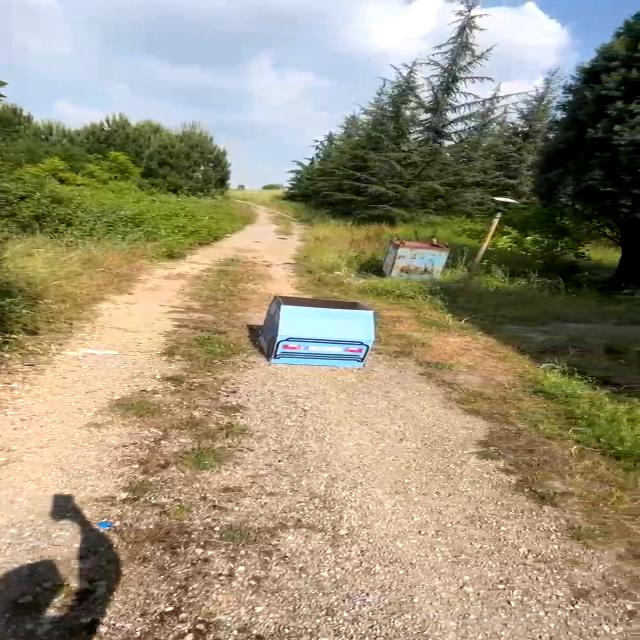blue_car: (242, 280, 400, 379)
